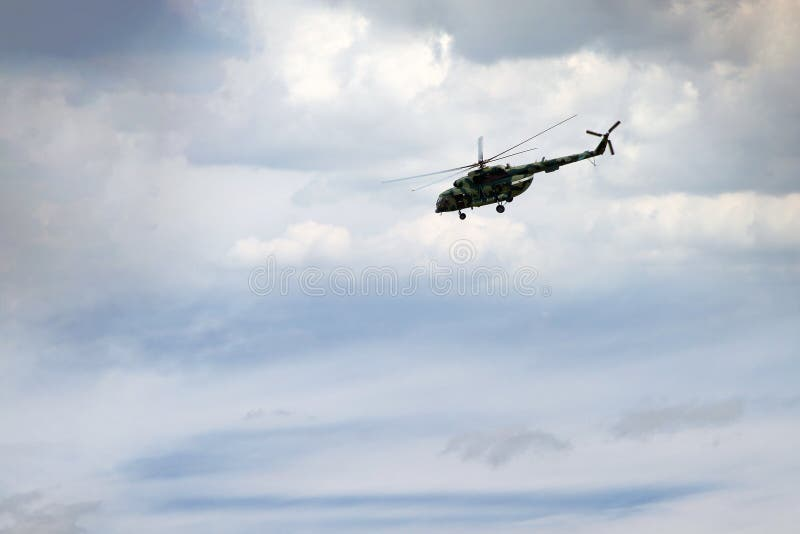helicopter: (369, 98, 635, 250)
